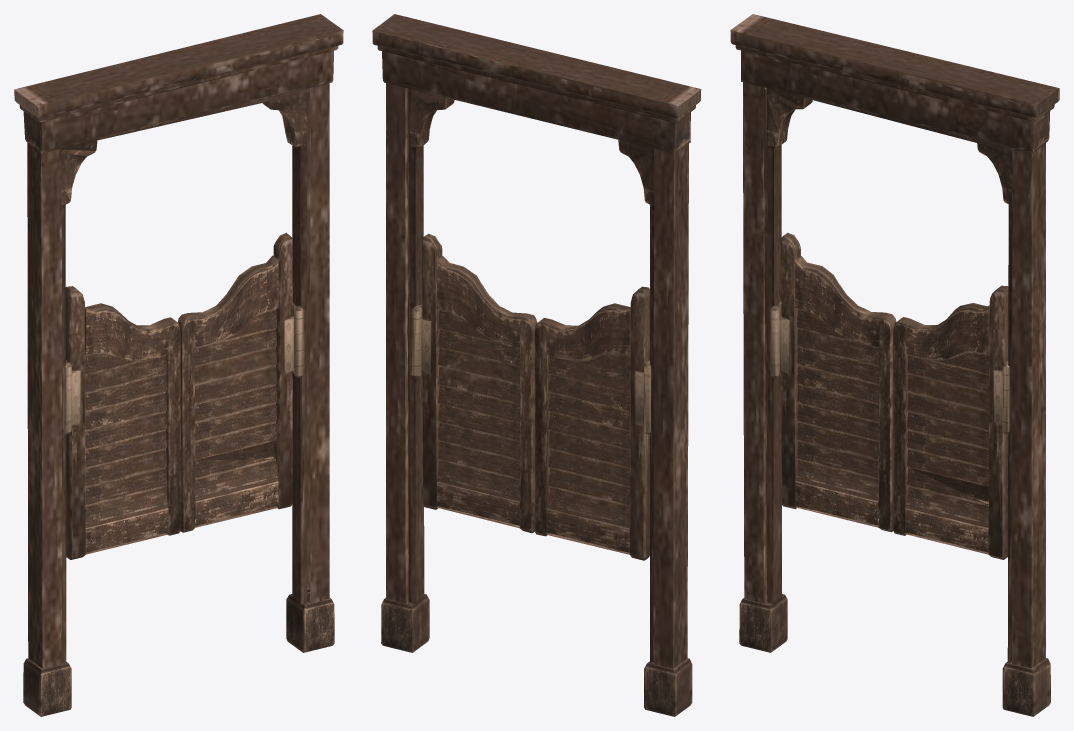
Rendered from door.glb.
The picture shows the model from 3 angles, left to right: view 1: azimuth 30°, elevation 25°; view 2: azimuth 150°, elevation 25°; view 3: azimuth 330°, elevation 25°; orthographic projection.
Parts seen in each view (by area): view 1: GLTF; view 2: GLTF; view 3: GLTF.
Part boxes in pixels (x1,y1,x2,y2): GLTF: [14, 14, 343, 716]; GLTF: [372, 14, 701, 716]; GLTF: [730, 14, 1059, 716].
Size of the model in its own units: 1.2 by 2.3 by 0.16.
1 material, 1 textured.
